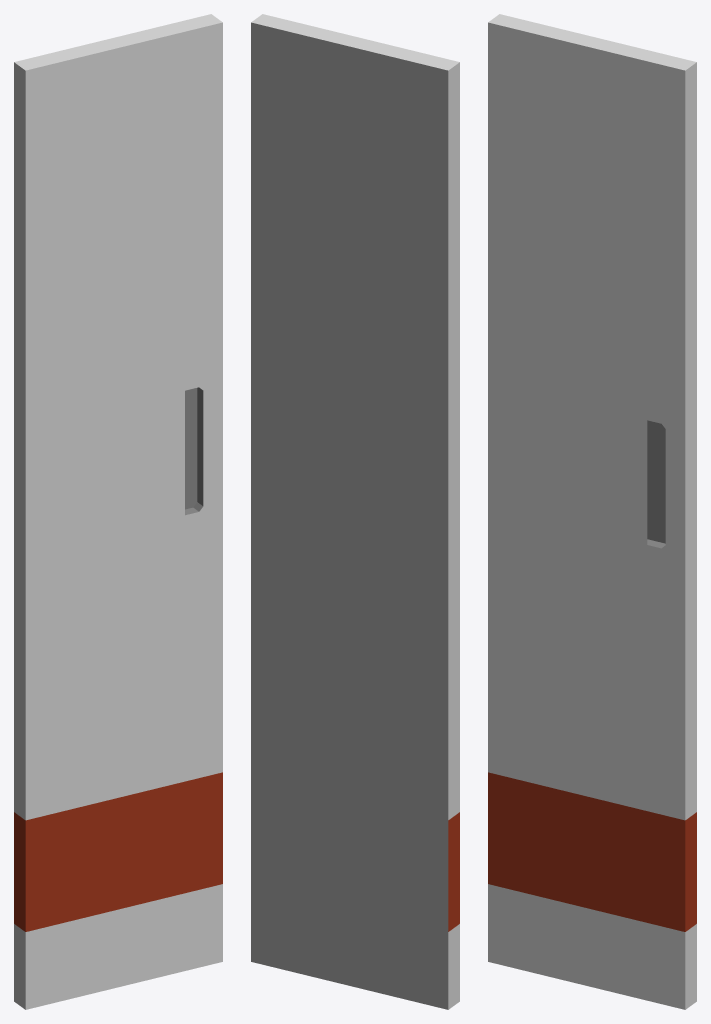
The model's file is drawer_door.glb.
3 views of the same model, side by side, from view 1: azimuth 30°, elevation 25°; view 2: azimuth 150°, elevation 25°; view 3: azimuth 330°, elevation 25° (orthographic).
Visible parts, largest first — view 1: Drawer_D; view 2: Drawer_D; view 3: Drawer_D.
Part boxes in pixels (bbox=[...]): Drawer_D: bbox=[14, 14, 222, 1009]; Drawer_D: bbox=[251, 14, 459, 1009]; Drawer_D: bbox=[488, 14, 696, 1009].
Bounding box in the file's own units: 0.3913 × 1.78 × 0.0398.
1 material, 1 textured.
